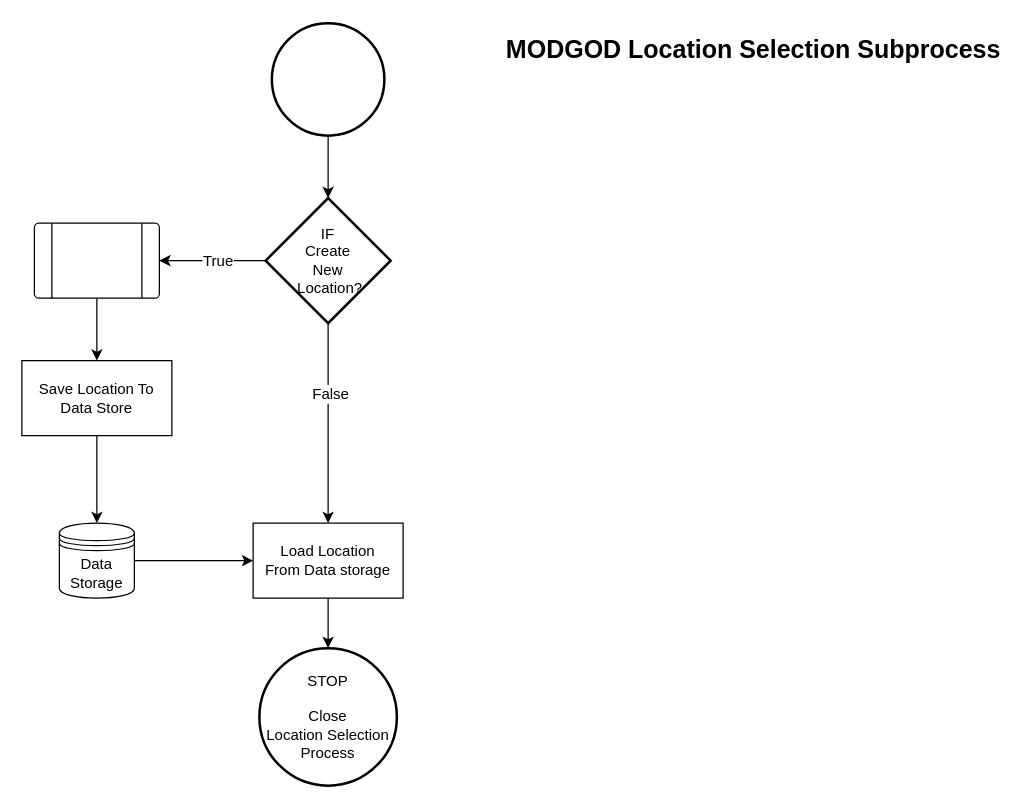
The diagram is 1031 pixels wide and 808 high, and some of its shapes have lost their labels. The centre of each missing label's shape, as x and y in pixels:
Create Location Subprocess: the point at 96,260
START Open Location: the point at 327,78
